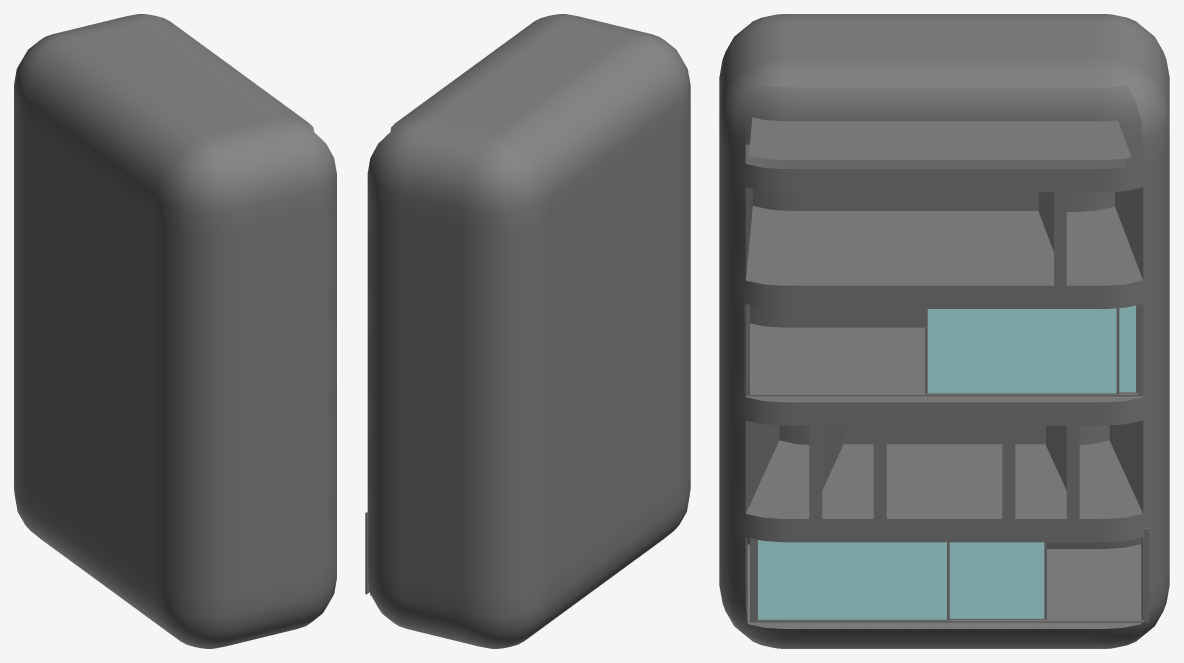
File: JM_Rounded_Bookshelf.fbx
The picture shows the model from 3 angles, left to right: view 1: azimuth 30°, elevation 25°; view 2: azimuth 150°, elevation 25°; view 3: azimuth 270°, elevation 25°; orthographic projection. The views are drawn at different scales.
Visible parts, largest first — view 1: Bookshelf_W_Glass_Sliding_Doors; view 2: Bookshelf_W_Glass_Sliding_Doors; view 3: Bookshelf_W_Glass_Sliding_Doors, SlidingWindow002, SlidingWindow001.
Boxes of the visible parts, x1,y1,x2,y2 form: Bookshelf_W_Glass_Sliding_Doors: (14,14,336,648); Bookshelf_W_Glass_Sliding_Doors: (367,14,690,648); Bookshelf_W_Glass_Sliding_Doors: (719,14,1169,648); SlidingWindow002: (750,528,1149,622); SlidingWindow001: (744,303,1143,396).
Size of the model in its own units: 276 by 789 by 552.
